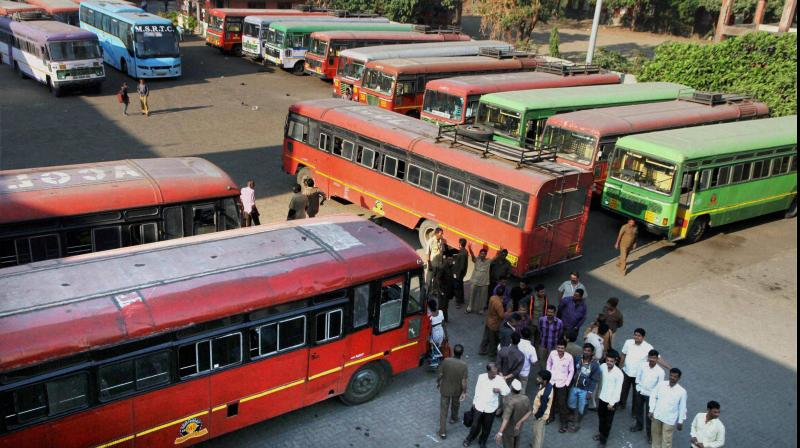bus: (2, 215, 427, 444), (282, 93, 593, 267), (2, 148, 229, 260), (610, 111, 793, 230), (88, 6, 201, 80), (9, 14, 110, 87), (545, 112, 607, 184), (363, 58, 422, 112), (425, 79, 477, 131), (477, 91, 530, 141), (207, 6, 243, 51), (266, 20, 300, 67), (309, 25, 332, 83)
